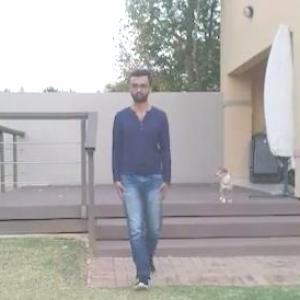follow: (111, 65, 175, 299)
